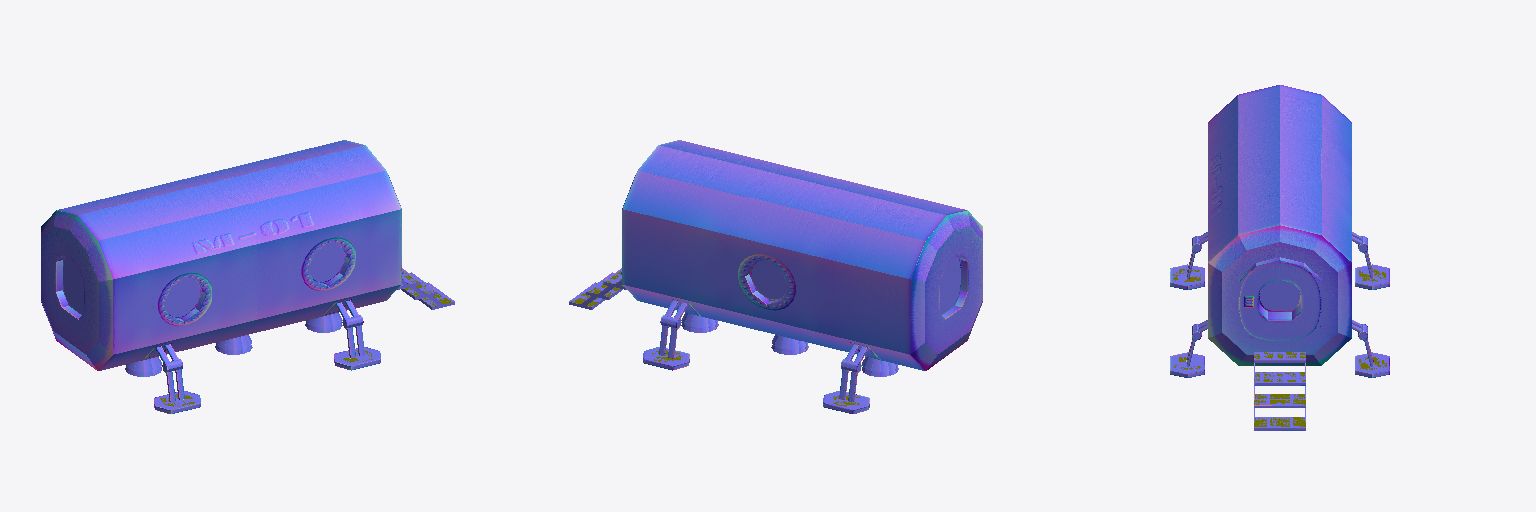
The picture shows the model from 3 angles: view 1: azimuth 30°, elevation 25°; view 2: azimuth 150°, elevation 25°; view 3: azimuth 270°, elevation 25°; orthographic projection.
Parts seen in each view (by area): view 1: Body.003_Cylinder.006; view 2: Body.003_Cylinder.006; view 3: Body.003_Cylinder.006.
Boxes of the visible parts, x1=… form: Body.003_Cylinder.006: x1=41, y1=140, x2=454, y2=413; Body.003_Cylinder.006: x1=569, y1=140, x2=982, y2=413; Body.003_Cylinder.006: x1=1170, y1=85, x2=1389, y2=430.
Bounding box in the file's own units: 10.32 × 4.47 × 5.28.
Materials: 2 (1 with a texture image).